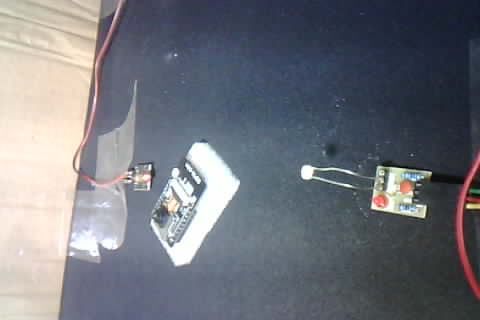esp32: (148, 140, 240, 267)
